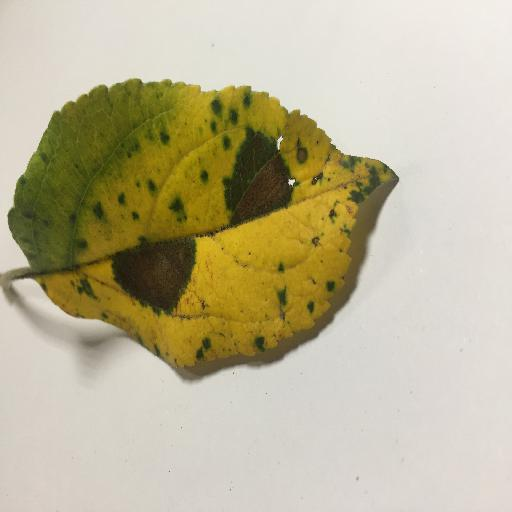Brown_Spot: (114, 258, 180, 299), (242, 160, 278, 216)
